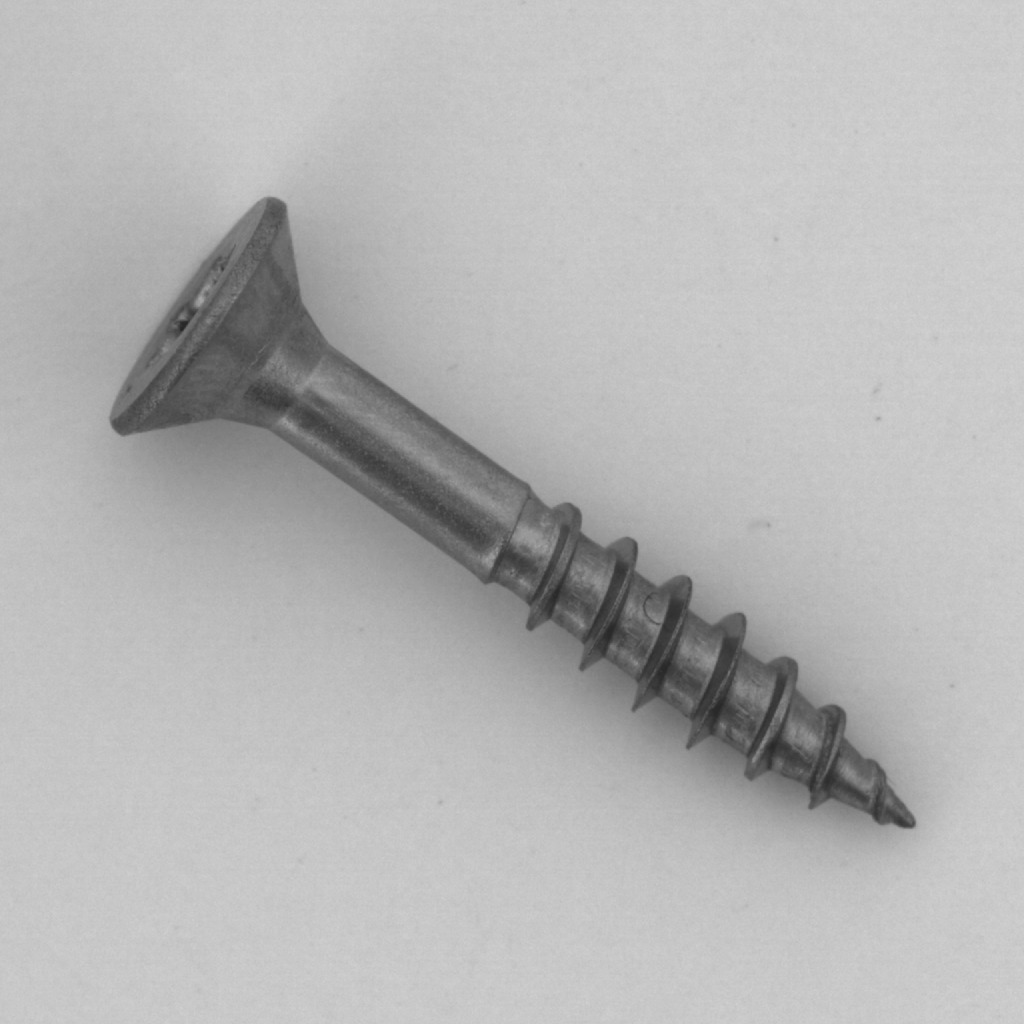good: (92, 177, 947, 858)
